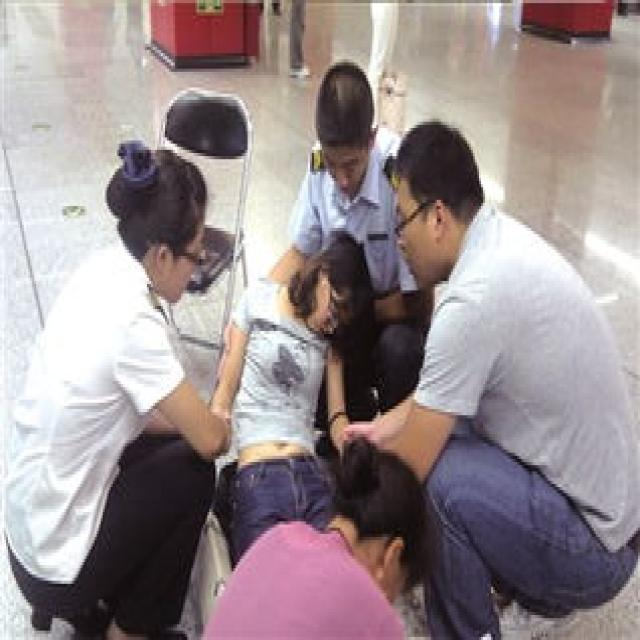Fall: (213, 232, 372, 568)
